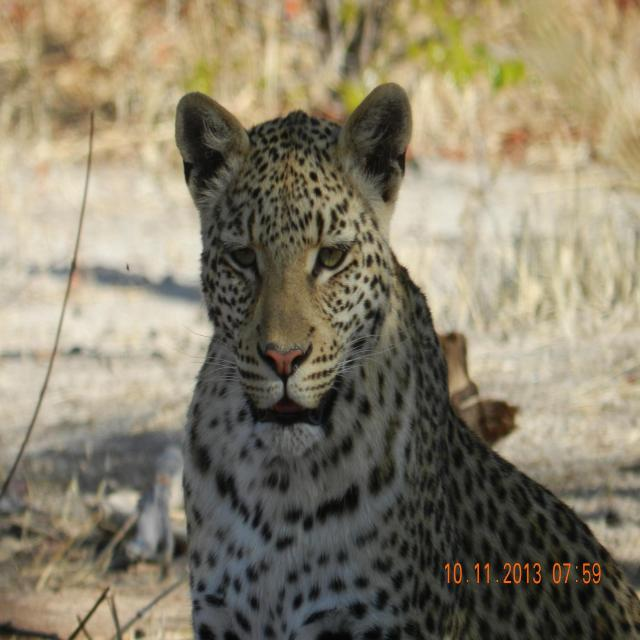Leopard: (66, 86, 640, 640)
